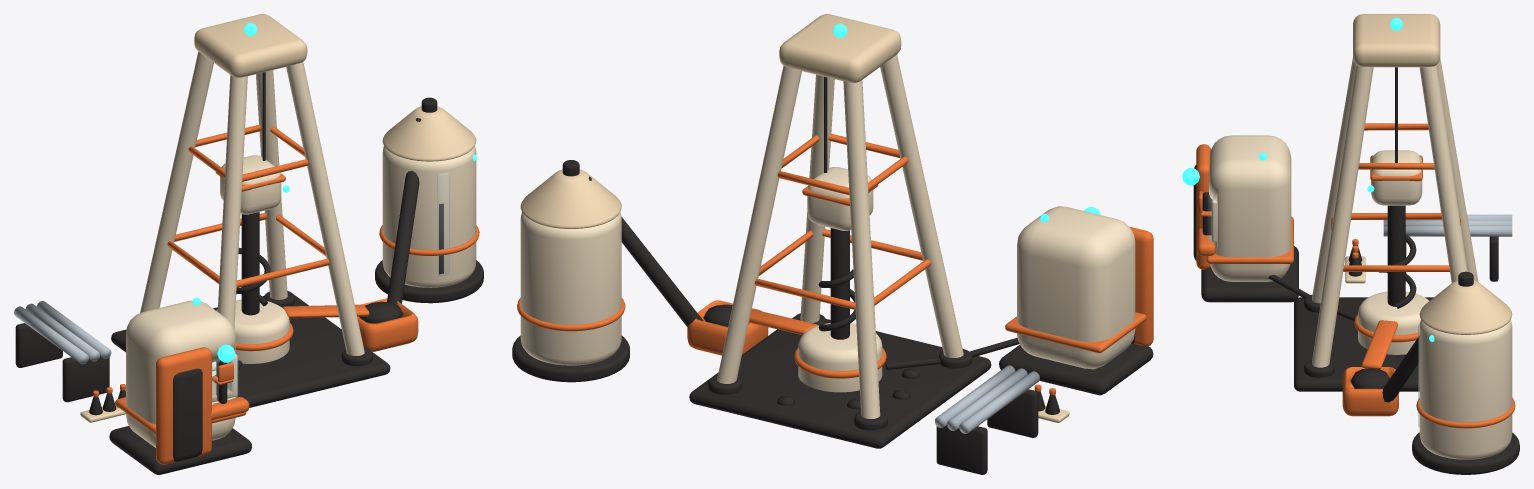
Rendered from drill-1.glb.
3 views of the same model, side by side, from view 1: azimuth 30°, elevation 25°; view 2: azimuth 150°, elevation 25°; view 3: azimuth 270°, elevation 25° (orthographic). The views are drawn at different scales.
Parts seen in each view (by area): view 1: Cube.002, Cone.001, Cube.003, Cone, Cylinder.009, Cube.006, Cube.021; view 2: Cube.002, Cone.001, Cube.003, Cone, Cylinder.009; view 3: Cube.002, Cone.001, Cube.003, Cone, Cylinder.009, Cube.021, Cube.006.
Part boxes in pixels (box(x1,y1,x2,y2)): Cube.002: box(126, 51, 476, 447); Cone.001: box(15, 72, 483, 474); Cube.003: box(93, 124, 479, 464); Cone: box(80, 14, 476, 422); Cylinder.009: box(14, 301, 111, 364); Cube.006: box(212, 172, 449, 403); Cube.021: box(192, 23, 476, 362); Cube.002: box(520, 55, 1135, 418); Cone.001: box(512, 76, 1153, 474); Cube.003: box(517, 133, 1153, 395); Cone: box(520, 14, 1069, 422); Cylinder.009: box(935, 365, 1039, 433); Cube.002: box(1209, 58, 1512, 459); Cone.001: box(1193, 67, 1519, 474); Cube.003: box(1196, 123, 1515, 428); Cone: box(1345, 14, 1512, 334); Cylinder.009: box(1383, 214, 1512, 236); Cube.021: box(1182, 17, 1434, 341); Cube.006: box(1207, 187, 1419, 427).
Size of the model in its own units: 2.02 by 1.43 by 1.31.
